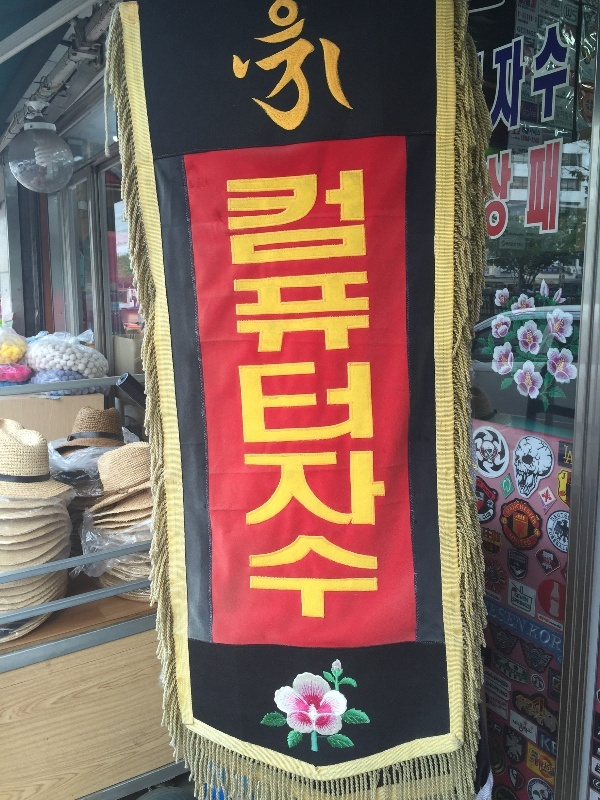text: (241, 171, 256, 628), (257, 171, 272, 628), (273, 171, 288, 628), (289, 171, 304, 628), (305, 171, 320, 628), (321, 171, 336, 628), (337, 171, 352, 628), (353, 171, 368, 628), (369, 171, 384, 628), (226, 171, 240, 628), (385, 171, 395, 628), (241, 1, 256, 136), (257, 1, 272, 136), (273, 1, 288, 136), (289, 1, 304, 136), (305, 1, 320, 136), (321, 1, 336, 136), (337, 1, 352, 136), (497, 18, 512, 133), (513, 18, 528, 133), (529, 18, 544, 133), (545, 18, 560, 133), (497, 136, 512, 240), (513, 136, 528, 240), (529, 136, 544, 240), (545, 136, 560, 240), (483, 136, 496, 240), (561, 18, 570, 133), (353, 1, 357, 136), (497, 601, 512, 633), (529, 623, 544, 653), (545, 623, 560, 653), (513, 601, 526, 633), (561, 136, 565, 240), (237, 1, 240, 136), (550, 526, 560, 559), (513, 504, 528, 526), (545, 734, 557, 757), (564, 1, 576, 24), (516, 122, 528, 144), (529, 122, 541, 144), (564, 446, 576, 466), (513, 533, 528, 549), (494, 18, 496, 133), (561, 526, 567, 559), (497, 681, 508, 699), (513, 597, 528, 610), (490, 601, 496, 633), (486, 681, 496, 699), (529, 504, 537, 526), (497, 676, 510, 689), (484, 485, 496, 498), (485, 600, 496, 614), (532, 781, 544, 793), (561, 109, 573, 121), (545, 554, 556, 567), (518, 25, 528, 39), (545, 782, 554, 797), (515, 592, 528, 602), (535, 758, 544, 772), (504, 479, 512, 494), (513, 728, 522, 741), (482, 512, 496, 520), (529, 25, 537, 39), (507, 504, 512, 526), (485, 529, 496, 539), (547, 765, 560, 773), (550, 513, 560, 523), (485, 670, 496, 679), (513, 239, 524, 248), (529, 108, 537, 120), (487, 719, 496, 729), (502, 239, 512, 248), (532, 750, 544, 757), (519, 725, 528, 734), (550, 621, 560, 629), (513, 751, 519, 763), (530, 794, 544, 799), (541, 734, 544, 757), (519, 148, 528, 155), (529, 90, 536, 99), (561, 513, 567, 523), (497, 724, 502, 736), (522, 90, 528, 99), (540, 554, 544, 567), (508, 728, 512, 741), (534, 780, 544, 785), (529, 533, 532, 549), (508, 751, 512, 763), (524, 108, 528, 120), (556, 109, 560, 121), (487, 568, 496, 573), (489, 594, 496, 600), (488, 539, 496, 544), (510, 533, 512, 549), (566, 548, 576, 551), (561, 623, 562, 653), (545, 758, 547, 772), (539, 617, 544, 622), (568, 516, 576, 519), (476, 480, 480, 486), (577, 1, 578, 24), (485, 592, 496, 594), (545, 617, 549, 622), (497, 594, 500, 600), (543, 782, 544, 797), (529, 597, 530, 610), (495, 676, 496, 689), (545, 505, 548, 509), (495, 724, 496, 736), (478, 515, 480, 520), (497, 568, 499, 573), (541, 782, 544, 785), (481, 480, 482, 486)
